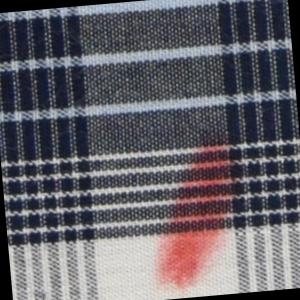Stain: (140, 133, 251, 298)
